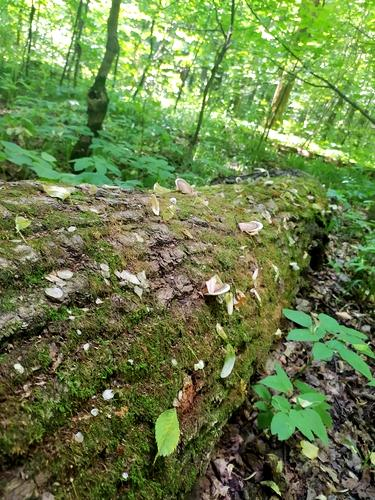Ganoderma - Fruit Body: (201, 277, 235, 298), (175, 176, 197, 198), (244, 219, 266, 236)
